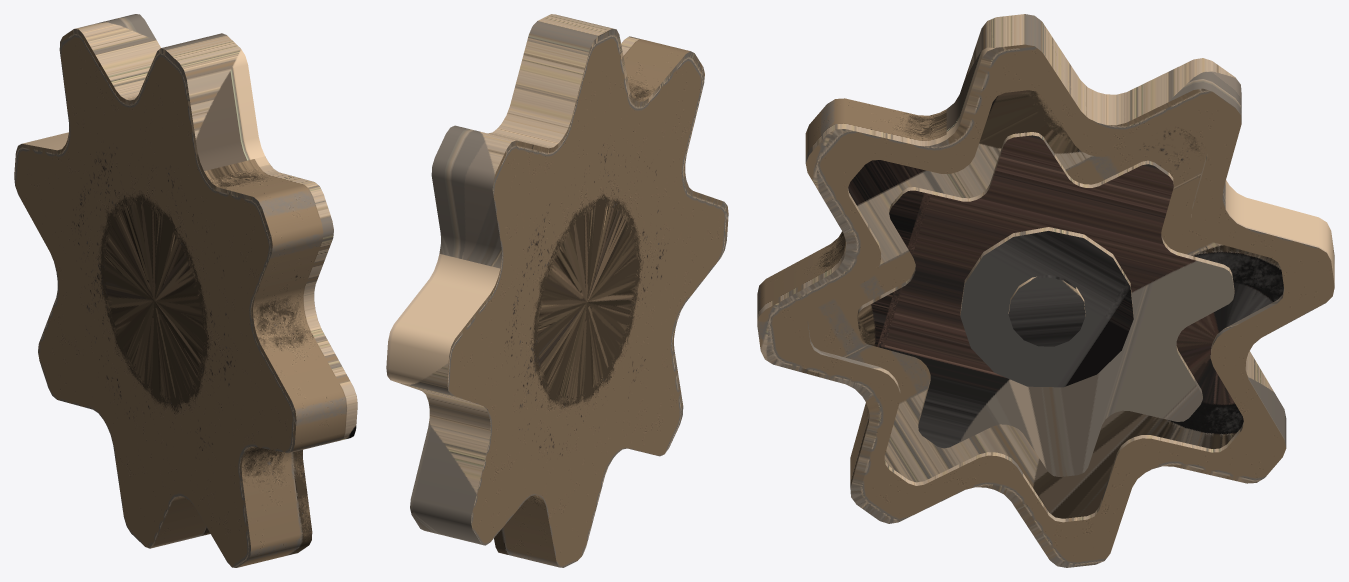
File: gear.fbx
The picture shows the model from 3 angles, left to right: view 1: azimuth 30°, elevation 25°; view 2: azimuth 150°, elevation 25°; view 3: azimuth 270°, elevation 25°; orthographic projection. The views are drawn at different scales.
Parts seen in each view (by area): view 1: gear; view 2: gear; view 3: gear.
Boxes of the visible parts, x1,y1,x2,y2 form: gear: [14, 14, 357, 567]; gear: [386, 14, 728, 567]; gear: [757, 14, 1334, 567].
Size of the model in its own units: 85.67 by 566 by 566.
